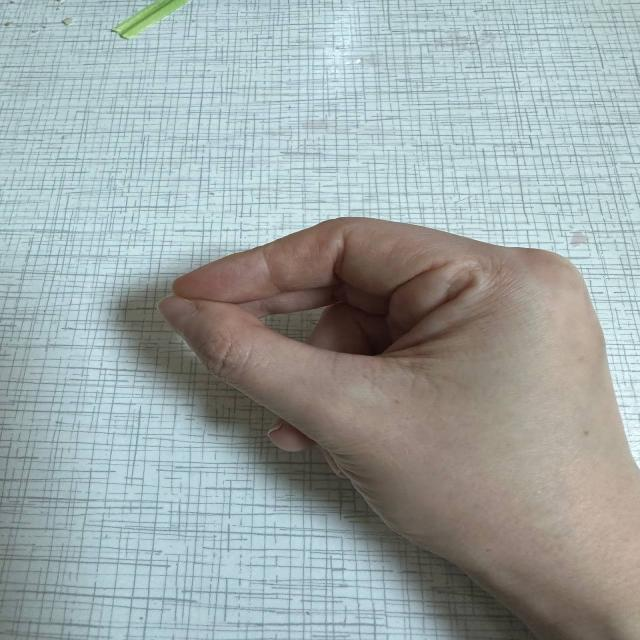ch: (135, 212, 636, 558)
